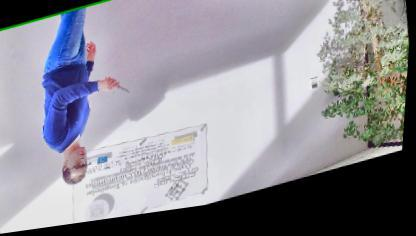knife: (103, 72, 134, 104)
